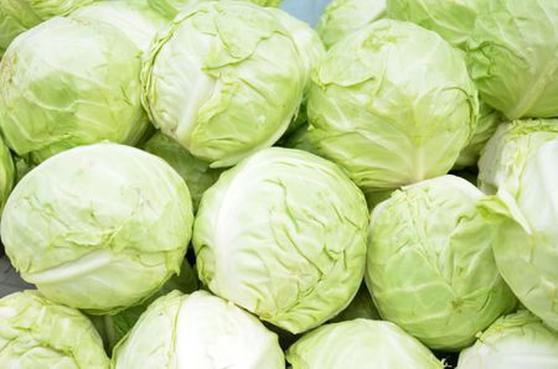cabbage: (5, 142, 215, 320), (196, 147, 374, 333), (356, 168, 539, 345), (312, 24, 483, 186), (148, 11, 329, 148)
